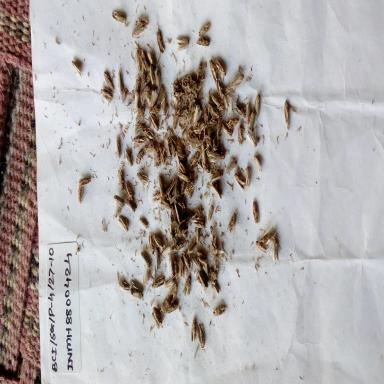pbw: (204, 257, 220, 290), (185, 76, 203, 105), (114, 270, 133, 296), (207, 232, 225, 258), (192, 33, 214, 54), (282, 99, 296, 132), (269, 232, 283, 264), (206, 145, 226, 167), (116, 213, 132, 240), (197, 15, 214, 40), (227, 208, 241, 238), (131, 166, 150, 188), (156, 26, 170, 55), (131, 130, 151, 150), (110, 191, 128, 213), (110, 133, 124, 161), (254, 88, 267, 118), (150, 270, 166, 294), (136, 246, 152, 270), (176, 167, 192, 191), (166, 135, 178, 167), (192, 98, 204, 129), (231, 161, 244, 189), (101, 64, 114, 92), (162, 173, 176, 199), (145, 85, 159, 111), (252, 198, 262, 234), (230, 68, 247, 89), (100, 84, 116, 106), (126, 144, 138, 173), (162, 298, 180, 317), (160, 290, 173, 316), (189, 148, 202, 174), (132, 88, 144, 116), (151, 306, 166, 328), (176, 32, 191, 54), (212, 76, 225, 101), (148, 110, 160, 137), (130, 22, 146, 42), (169, 224, 189, 240), (132, 11, 148, 31), (244, 165, 255, 194), (116, 169, 129, 193), (253, 148, 265, 174), (206, 203, 219, 227), (207, 59, 220, 83), (210, 91, 224, 113), (144, 48, 158, 70), (189, 315, 200, 343), (214, 53, 228, 75), (128, 286, 145, 304), (260, 227, 277, 245), (151, 233, 167, 252), (156, 173, 168, 198), (186, 234, 201, 254), (226, 112, 240, 133), (178, 210, 195, 227), (192, 221, 204, 245), (182, 92, 198, 110), (210, 178, 226, 196), (112, 8, 128, 26), (196, 157, 211, 176), (190, 202, 204, 222), (178, 68, 194, 85), (204, 115, 220, 132), (197, 320, 206, 350), (136, 212, 150, 231), (212, 278, 224, 300), (208, 166, 224, 182), (234, 101, 248, 119), (186, 132, 204, 146), (225, 155, 239, 173), (184, 275, 194, 300), (159, 92, 169, 117), (116, 68, 125, 95), (197, 268, 208, 290), (181, 250, 192, 272), (170, 90, 181, 112), (158, 140, 168, 164), (236, 123, 246, 147), (175, 141, 187, 161), (170, 238, 186, 253), (246, 128, 258, 148), (79, 172, 91, 192), (124, 196, 136, 216), (141, 125, 156, 141), (254, 236, 268, 253), (244, 99, 253, 125), (221, 122, 234, 140), (173, 200, 182, 226), (123, 181, 134, 202), (247, 107, 257, 130), (133, 120, 145, 139), (213, 121, 220, 153), (151, 188, 165, 204), (147, 63, 157, 85), (172, 112, 184, 130), (195, 58, 204, 82), (183, 180, 195, 198), (221, 89, 231, 110), (153, 246, 163, 267), (141, 267, 151, 288), (155, 86, 165, 107), (134, 145, 145, 164), (159, 196, 172, 212), (71, 60, 83, 77), (199, 140, 207, 165), (206, 99, 217, 117), (191, 216, 205, 230), (160, 244, 172, 260), (134, 73, 142, 97), (111, 205, 123, 221), (170, 78, 179, 99), (195, 247, 208, 261), (178, 113, 192, 126), (168, 282, 180, 297), (120, 86, 130, 104), (134, 49, 142, 71), (165, 137, 172, 162), (196, 256, 210, 268), (167, 255, 174, 279), (146, 233, 154, 253), (154, 146, 161, 168), (177, 255, 183, 280), (172, 255, 178, 280), (164, 276, 176, 288), (140, 62, 146, 86), (156, 68, 162, 86)
